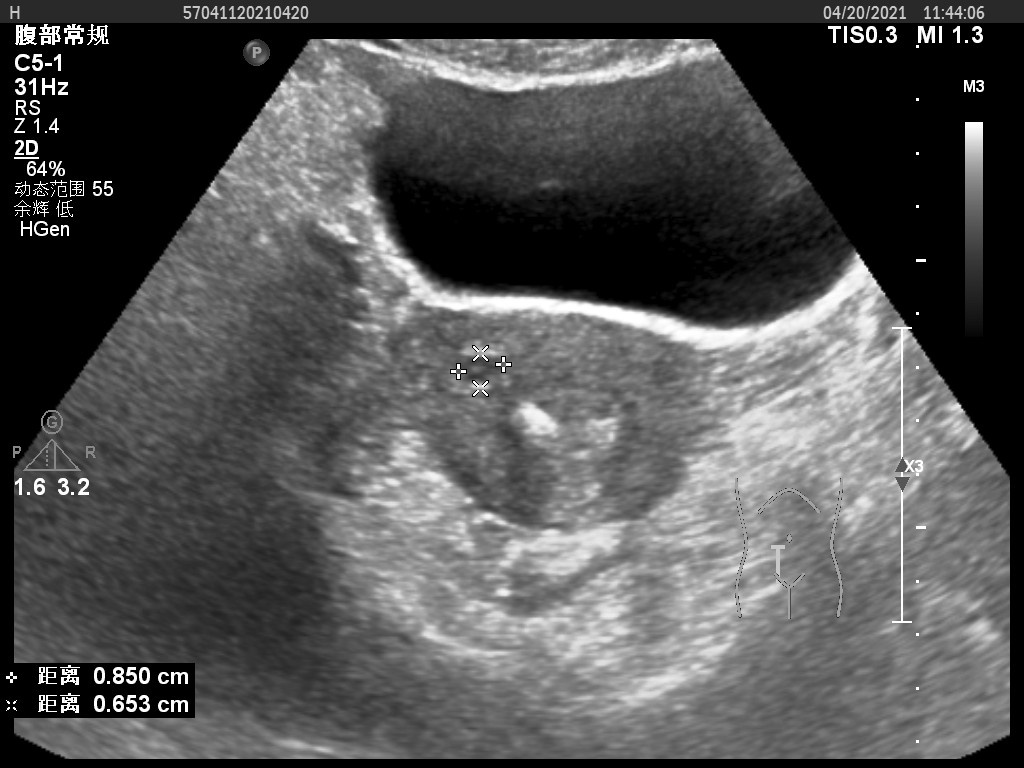肌瘤: (459, 354, 506, 391)
